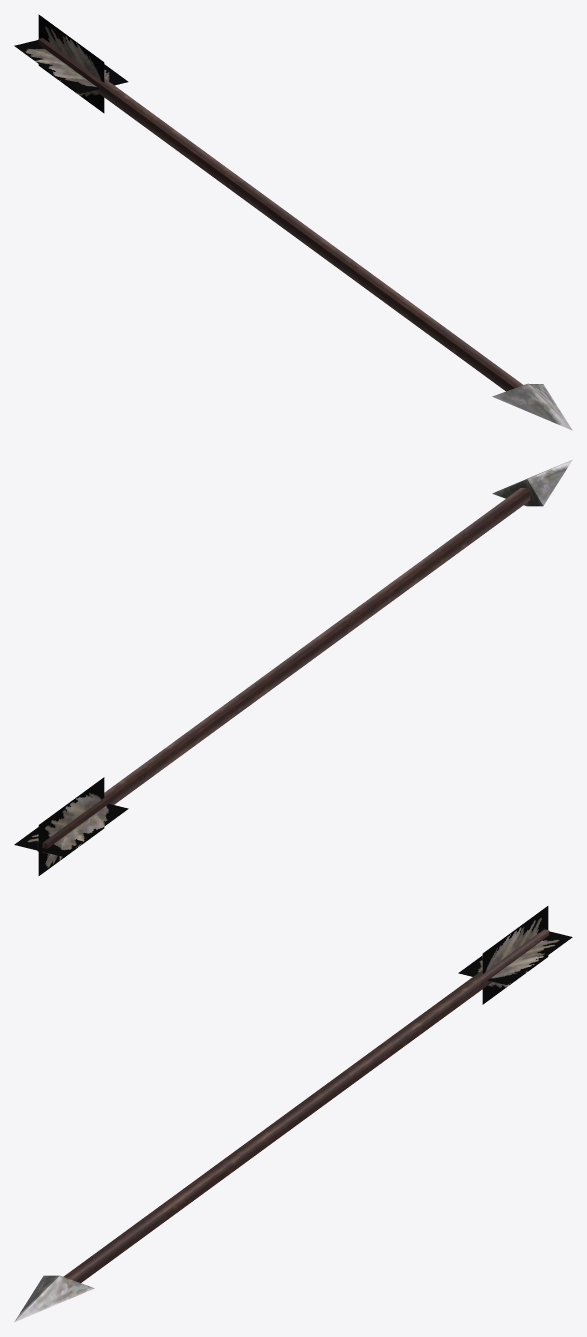
3 renders of one model, top to bottom at view 1: azimuth 30°, elevation 25°; view 2: azimuth 150°, elevation 25°; view 3: azimuth 330°, elevation 25°, orthographic.
Visible parts, largest first — view 1: Box05; view 2: Box05; view 3: Box05.
Boxes of the visible parts, x1,y1,x2,y2 form: Box05: (14,14,572,430); Box05: (14,459,572,875); Box05: (14,906,572,1322).
Size of the model in its own units: 5.38 by 5.12 by 96.61.
Materials: 1 (1 with a texture image).
